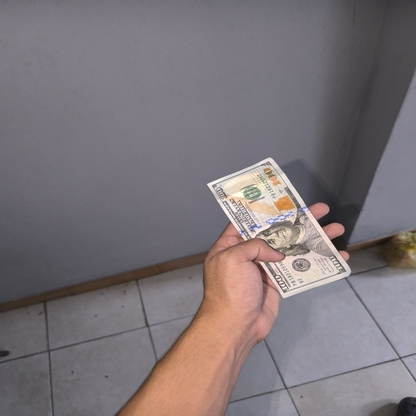one_hundred-front: (206, 155, 351, 298)
